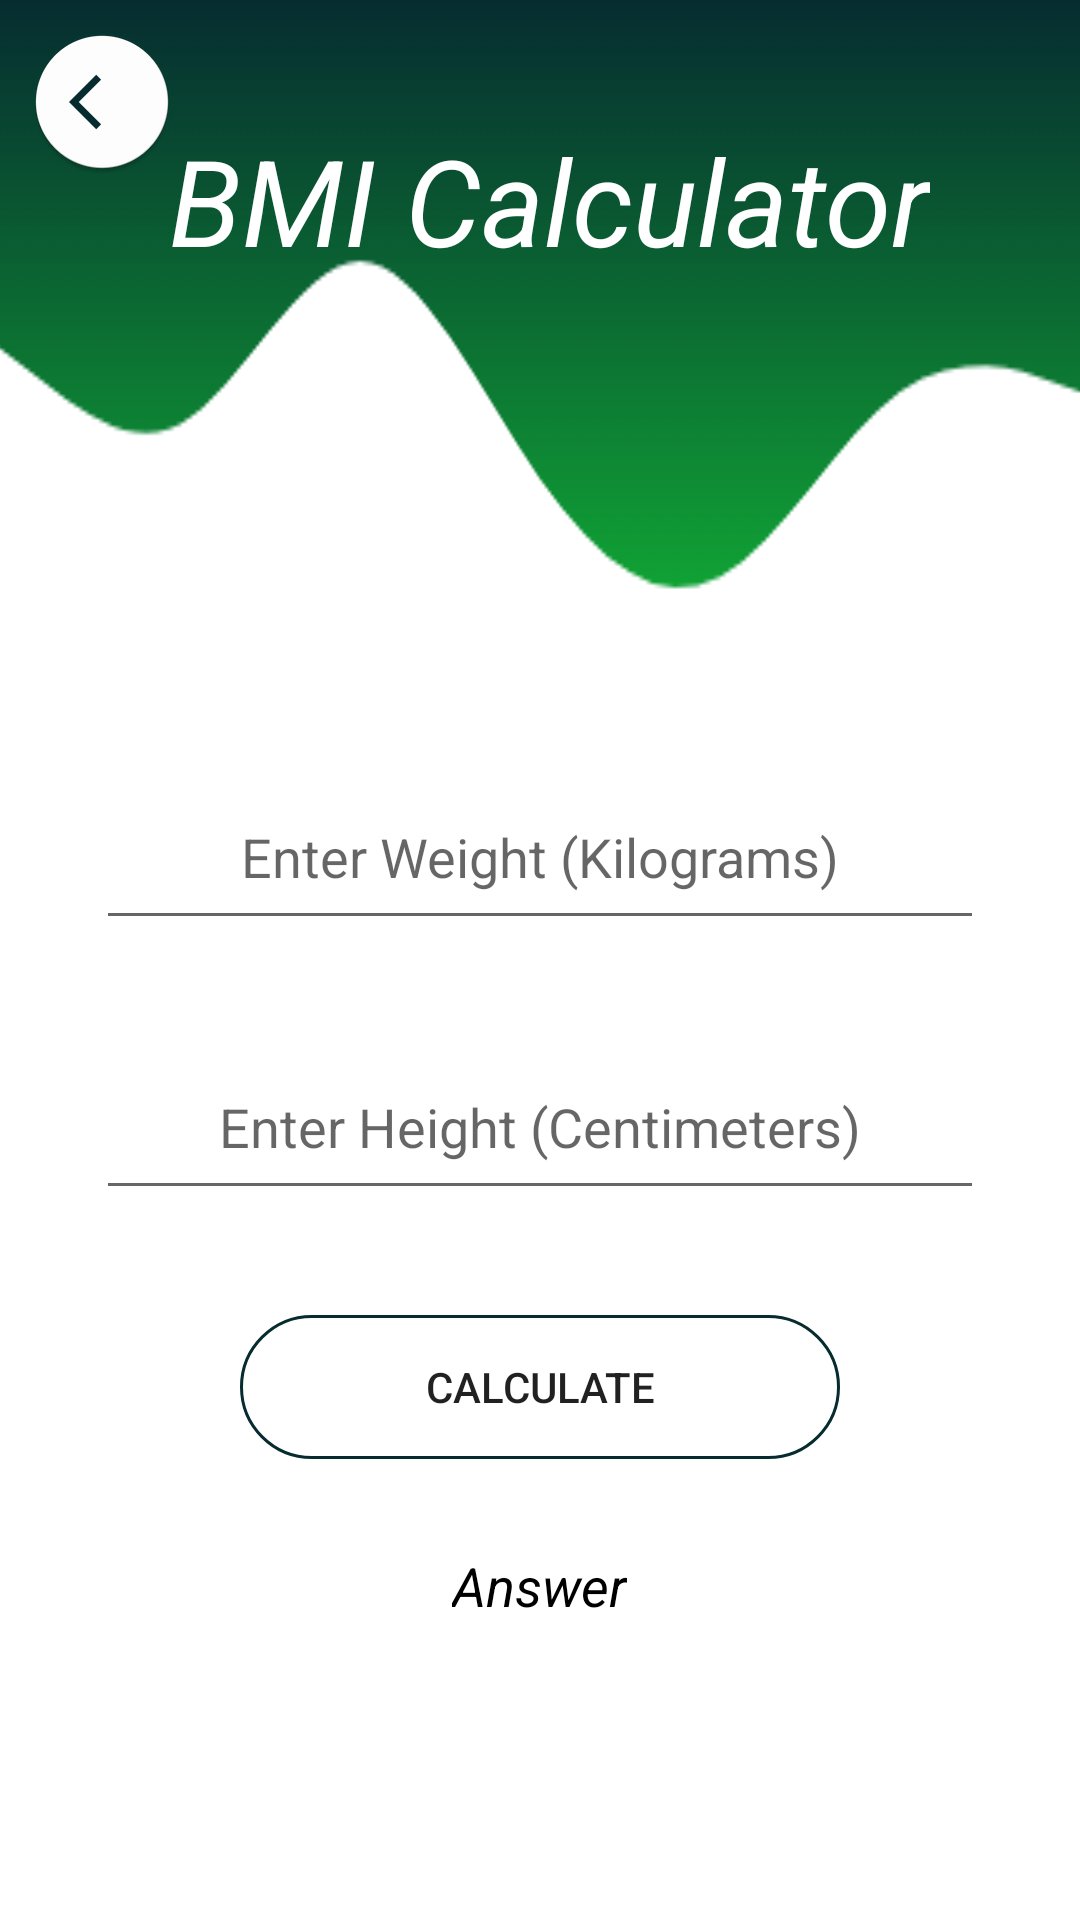

Where to tap for icons on this 1080 x 1920 app screen, as point (x, y):
back: point (102, 101)
